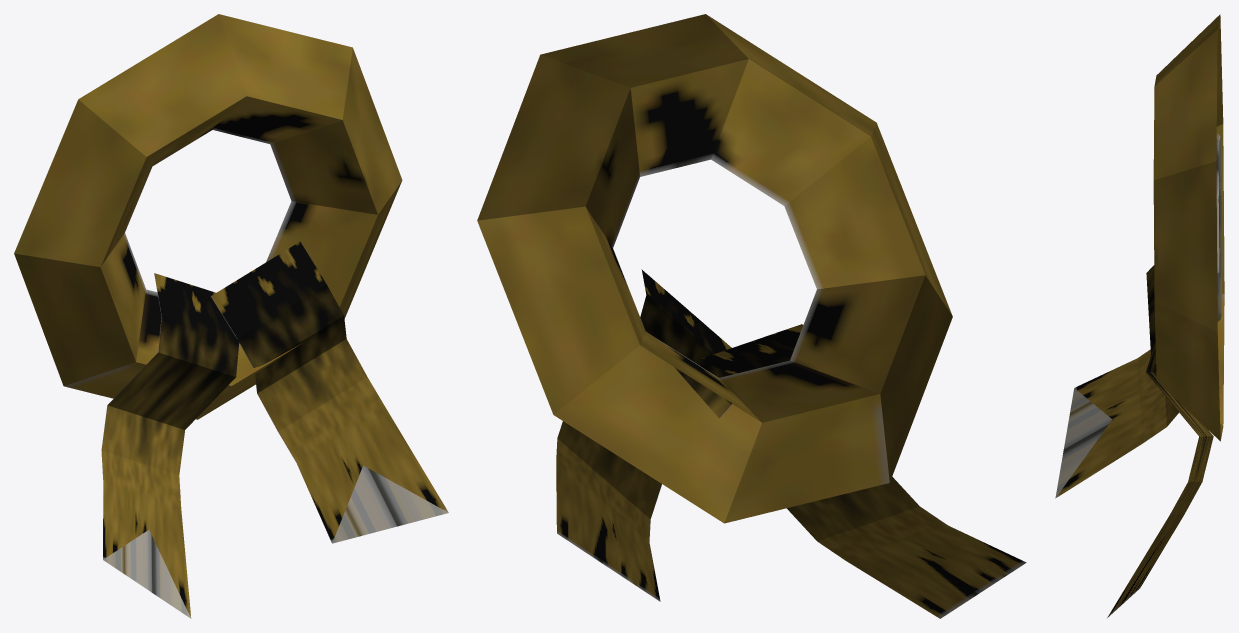
Rendered from Kranz [Braun]_79.glb.
The picture shows the model from 3 angles, left to right: view 1: azimuth 30°, elevation 25°; view 2: azimuth 150°, elevation 25°; view 3: azimuth 270°, elevation 25°; orthographic projection. The views are drawn at different scales.
Parts seen in each view (by area): view 1: pTorusShape4, pPlaneShape13, pPlaneShape14; view 2: pTorusShape4, pPlaneShape14, pPlaneShape13; view 3: pTorusShape4, pPlaneShape14, pPlaneShape13.
Boxes of the visible parts, x1,y1,x2,y2 form: pTorusShape4: [14, 14, 402, 419]; pPlaneShape13: [211, 241, 448, 543]; pPlaneShape14: [101, 273, 239, 618]; pTorusShape4: [477, 14, 952, 523]; pPlaneShape14: [699, 324, 1026, 618]; pPlaneShape13: [556, 269, 732, 601]; pTorusShape4: [1153, 14, 1224, 441]; pPlaneShape14: [1055, 265, 1178, 498]; pPlaneShape13: [1107, 341, 1213, 617].
Size of the model in its own units: 0.1456 by 0.1876 by 0.0551.
Materials: 3 (3 with a texture image).
